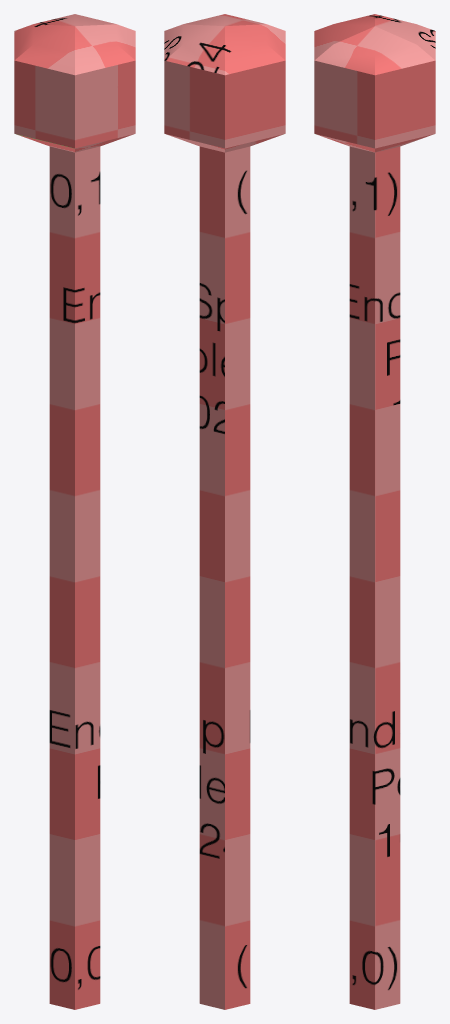
File: Pole_a.fbx
3 views of the same model, side by side, from view 1: azimuth 30°, elevation 25°; view 2: azimuth 150°, elevation 25°; view 3: azimuth 330°, elevation 25° (orthographic).
Parts seen in each view (by area): view 1: Pole_A; view 2: Pole_A; view 3: Pole_A.
Boxes of the visible parts, x1,y1,x2,y2 form: Pole_A: [14, 14, 135, 1009]; Pole_A: [164, 14, 285, 1009]; Pole_A: [314, 14, 435, 1009].
Bounding box in the file's own units: 13.86 × 106 × 12.
